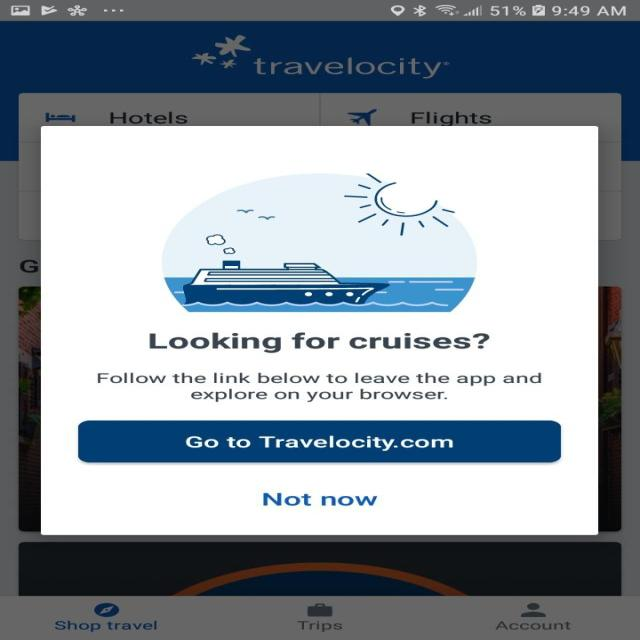Image: (160, 173, 478, 312)
Modal: (41, 125, 598, 535)
Text: (96, 372, 542, 402), (148, 332, 490, 353), (262, 492, 378, 506)
TextButton: (77, 419, 561, 463)
